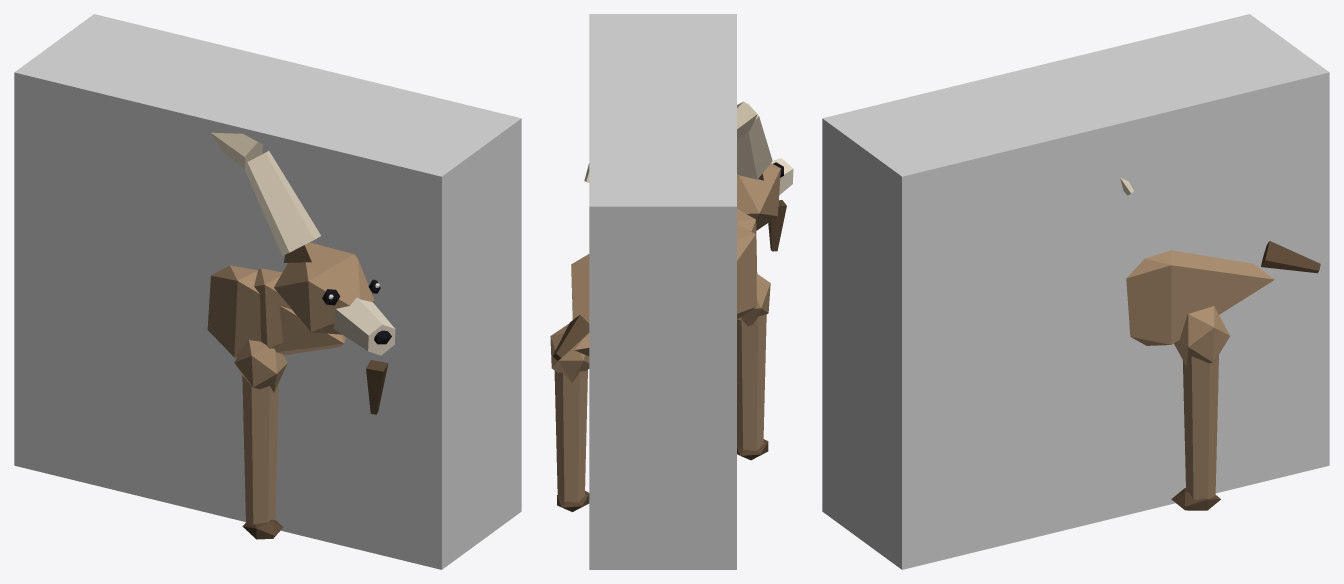
The model's file is tundra_furious_ibex.fbx.
3 views of the same model, side by side, from view 1: azimuth 30°, elevation 25°; view 2: azimuth 150°, elevation 25°; view 3: azimuth 270°, elevation 25° (orthographic). The views are drawn at different scales.
Parts seen in each view (by area): view 1: Root__0.01_2.50_-0.19__1.84_5.00_5.69, Head__Body__0.00_2.94_-1.05, Body__Root__0.00_2.70_0.00, LegFR__Body__0.58_2.12_-1.17; view 2: Root__0.01_2.50_-0.19__1.84_5.00_5.69, LegBL__Body__-0.58_2.12_1.27, Head__Body__0.00_2.94_-1.05, LegFR__Body__0.58_2.12_-1.17, Body__Root__0.00_2.70_0.00, Tail__Body__0.00_2.98_2.01; view 3: Root__0.01_2.50_-0.19__1.84_5.00_5.69, Body__Root__0.00_2.70_0.00, LegBL__Body__-0.58_2.12_1.27, Tail__Body__0.00_2.98_2.01.
Part boxes in pixels (box(x1,y1,x2,y2)): Root__0.01_2.50_-0.19__1.84_5.00_5.69: box(14, 14, 521, 569); Head__Body__0.00_2.94_-1.05: box(211, 132, 395, 414); Body__Root__0.00_2.70_0.00: box(207, 265, 345, 357); LegFR__Body__0.58_2.12_-1.17: box(234, 340, 287, 539); Root__0.01_2.50_-0.19__1.84_5.00_5.69: box(589, 14, 736, 569); LegBL__Body__-0.58_2.12_1.27: box(550, 323, 589, 511); Head__Body__0.00_2.94_-1.05: box(584, 101, 793, 251); LegFR__Body__0.58_2.12_-1.17: box(737, 273, 770, 460); Body__Root__0.00_2.70_0.00: box(571, 209, 757, 356); Tail__Body__0.00_2.98_2.01: box(553, 315, 589, 360); Root__0.01_2.50_-0.19__1.84_5.00_5.69: box(822, 14, 1329, 569); Body__Root__0.00_2.70_0.00: box(1126, 250, 1274, 345); LegBL__Body__-0.58_2.12_1.27: box(1171, 306, 1229, 510); Tail__Body__0.00_2.98_2.01: box(1261, 241, 1320, 273).
Bounding box in the file's own units: 124 × 141 × 164.
1 material, 1 textured.
